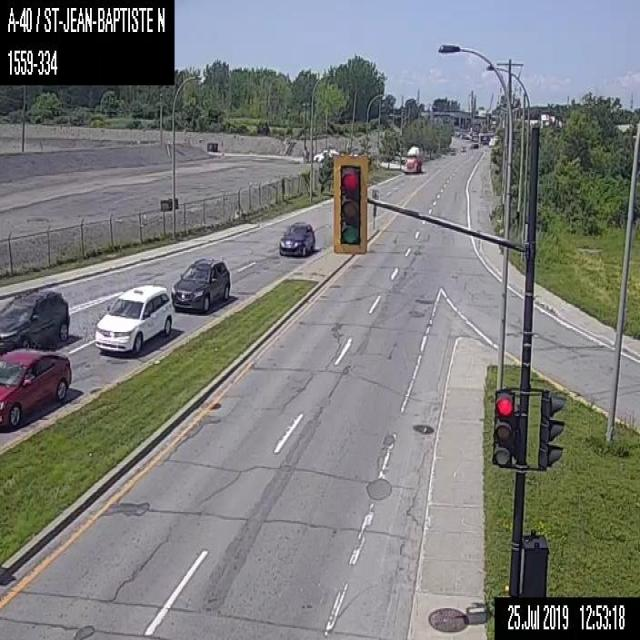vehicle: (0, 347, 70, 432), (93, 284, 171, 352), (0, 289, 69, 354), (171, 256, 230, 312), (278, 222, 314, 254), (403, 145, 421, 173), (449, 148, 455, 154), (459, 145, 466, 150)
